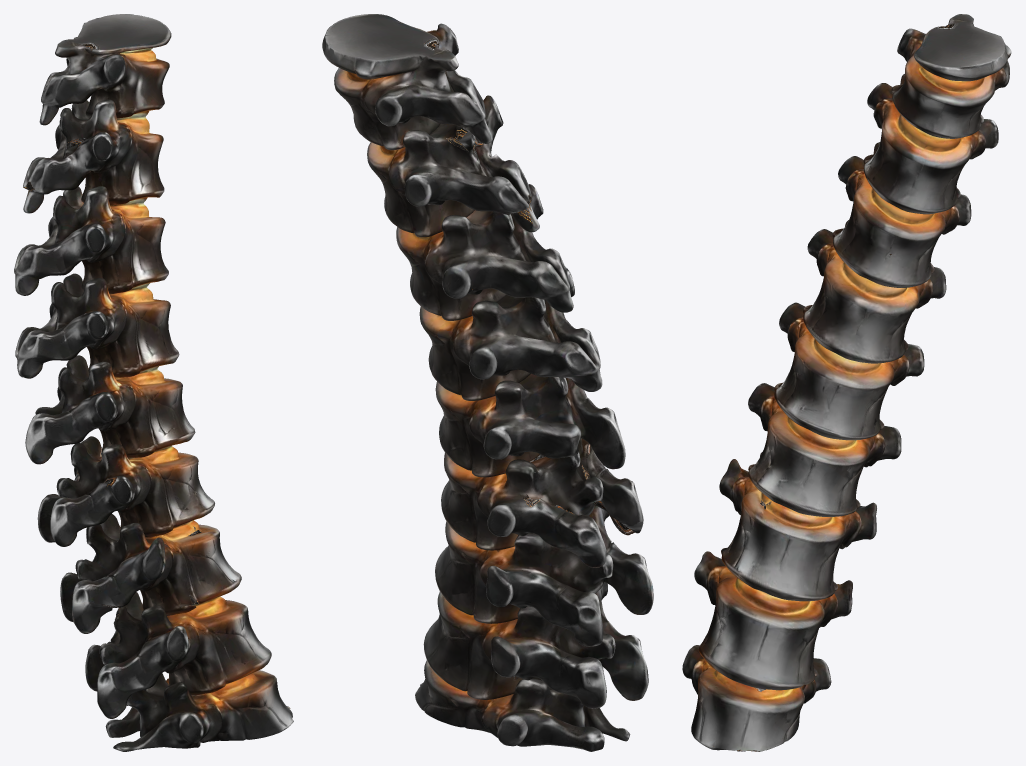
File: spine-phone.glb
3 views of the same model, side by side, from view 1: azimuth 30°, elevation 25°; view 2: azimuth 150°, elevation 25°; view 3: azimuth 270°, elevation 25° (orthographic). The views are drawn at different scales.
Parts seen in each view (by area): view 1: tripo_node_b2a1ff4f-8972-4df4-b4bd-6063b4841254; view 2: tripo_node_b2a1ff4f-8972-4df4-b4bd-6063b4841254; view 3: tripo_node_b2a1ff4f-8972-4df4-b4bd-6063b4841254.
Part boxes in pixels (x1,y1,x2,y2): tripo_node_b2a1ff4f-8972-4df4-b4bd-6063b4841254: (14, 14, 293, 751); tripo_node_b2a1ff4f-8972-4df4-b4bd-6063b4841254: (322, 14, 653, 751); tripo_node_b2a1ff4f-8972-4df4-b4bd-6063b4841254: (682, 14, 1011, 751).
Size of the model in its own units: 0.3554 by 0.9821 by 0.4338.
1 material, 1 textured.
